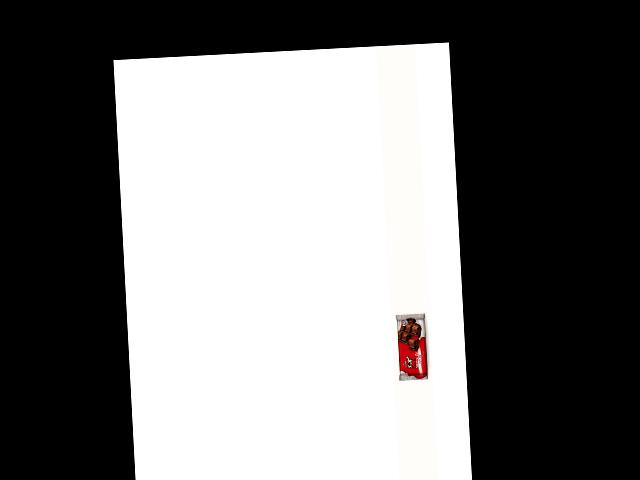chocolate: (399, 311, 444, 391)
